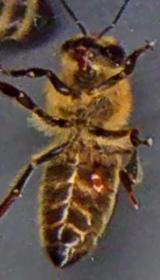varroa_mite: (83, 168, 108, 198)
